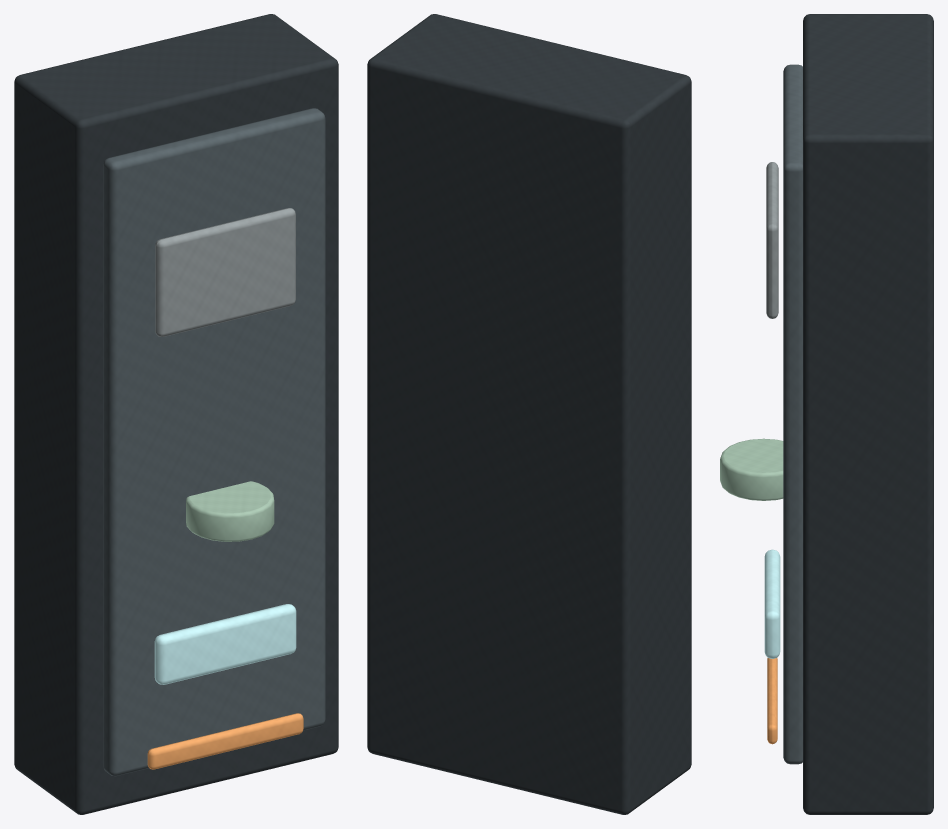
File: WallIntercom.glb
3 views of the same model, side by side, from view 1: azimuth 30°, elevation 25°; view 2: azimuth 150°, elevation 25°; view 3: azimuth 270°, elevation 25° (orthographic). The views are drawn at different scales.
Parts seen in each view (by area): view 1: WallIntercom_Mesh; view 2: WallIntercom_Mesh; view 3: WallIntercom_Mesh.
Boxes of the visible parts, x1,y1,x2,y2 form: WallIntercom_Mesh: (14, 14, 338, 814); WallIntercom_Mesh: (367, 14, 691, 814); WallIntercom_Mesh: (720, 14, 933, 814).
Bounding box in the file's own units: 0.34 × 0.86 × 0.245.
6 materials, 6 textured.
